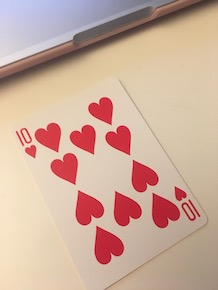TenOfHearts: (7, 74, 210, 290)
